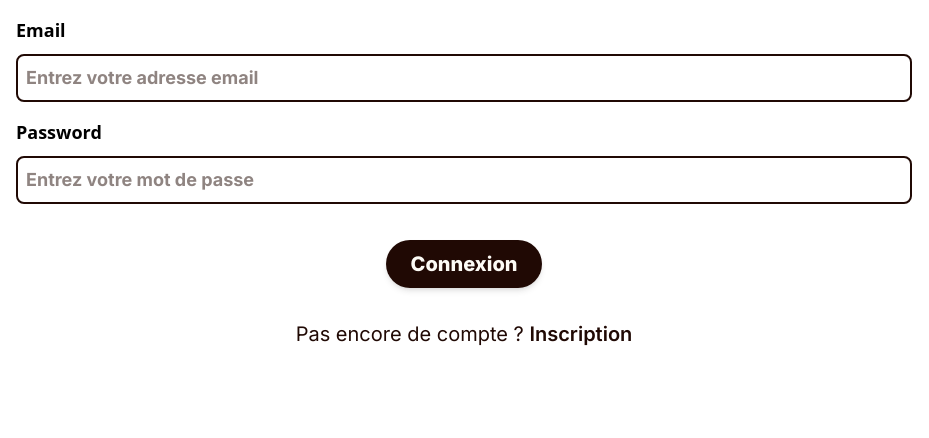
LoginForm › affiche un message d'erreur si les identifiants sont incorrects
In the field with test id "emailLogin": (464,78) [16,54,912,102], type "mauvais@email.com"
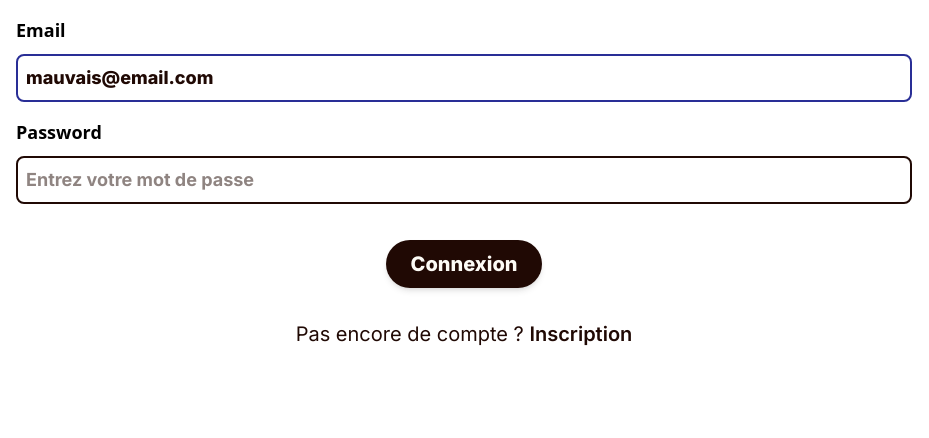
In the password field with test id "passwordLogin": (464,180) [16,156,912,204], type "mauvaismdp"
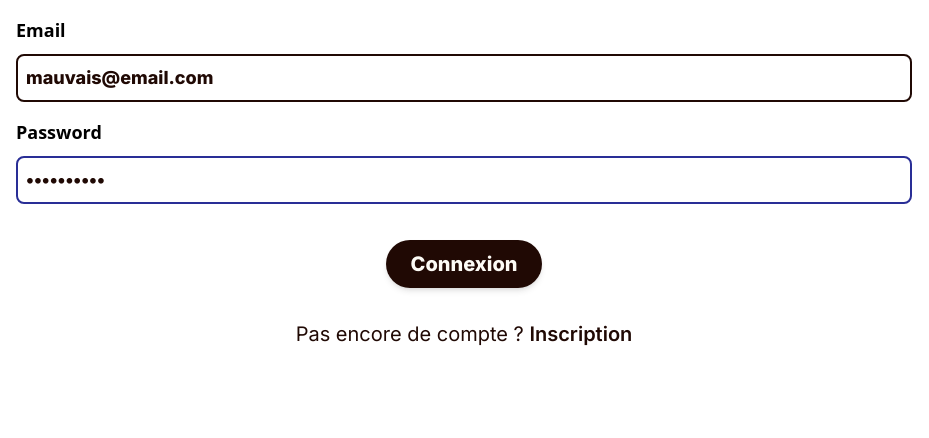
Click the button with test id "buttonLogin": (464,264) [386,240,542,288]
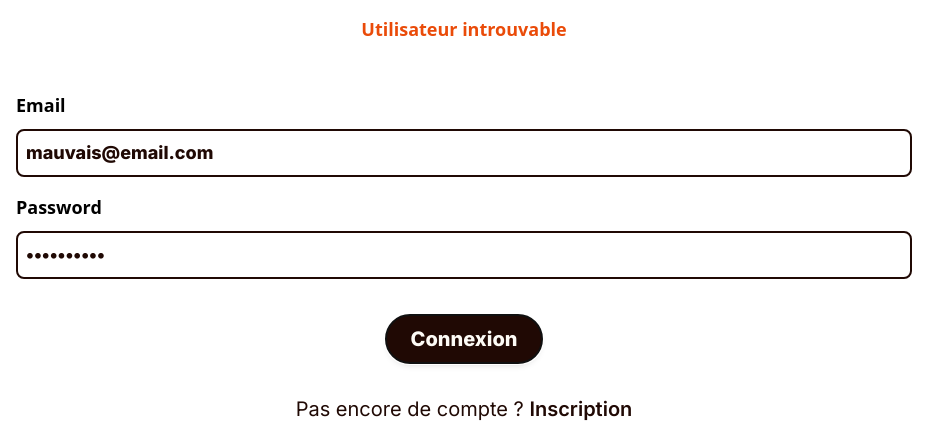
Now the text "Utilisateur introuvable" is shown, box [361,16,567,43]
